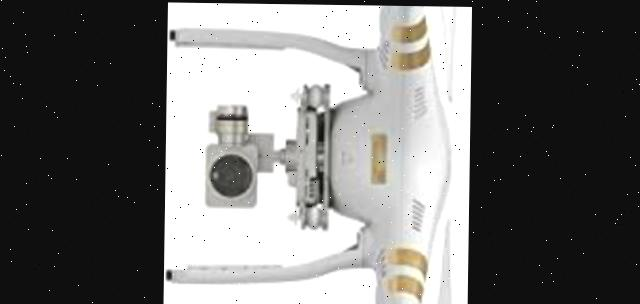drone: (164, 2, 472, 304)
